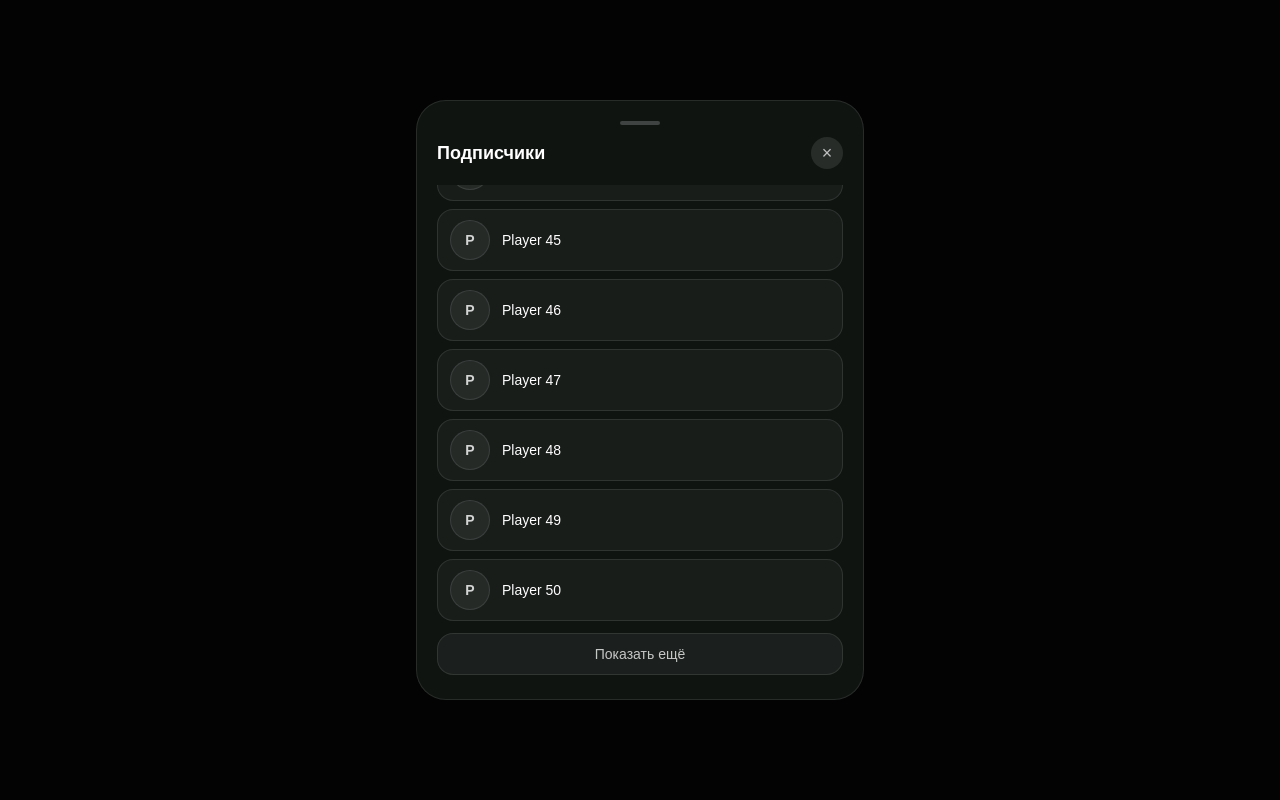
Test: pagination › 1-5. 120 players: 50 -> «Показать ещё» -> offset 50 -> 100 (button stays) -> offset 100 -> 120 (button gone)
This screenshot has width=1280, height=800.
(page scrolled)
Click the button "Показать ещё" at (640,654), box [437, 633, 843, 675]
(page scrolled)
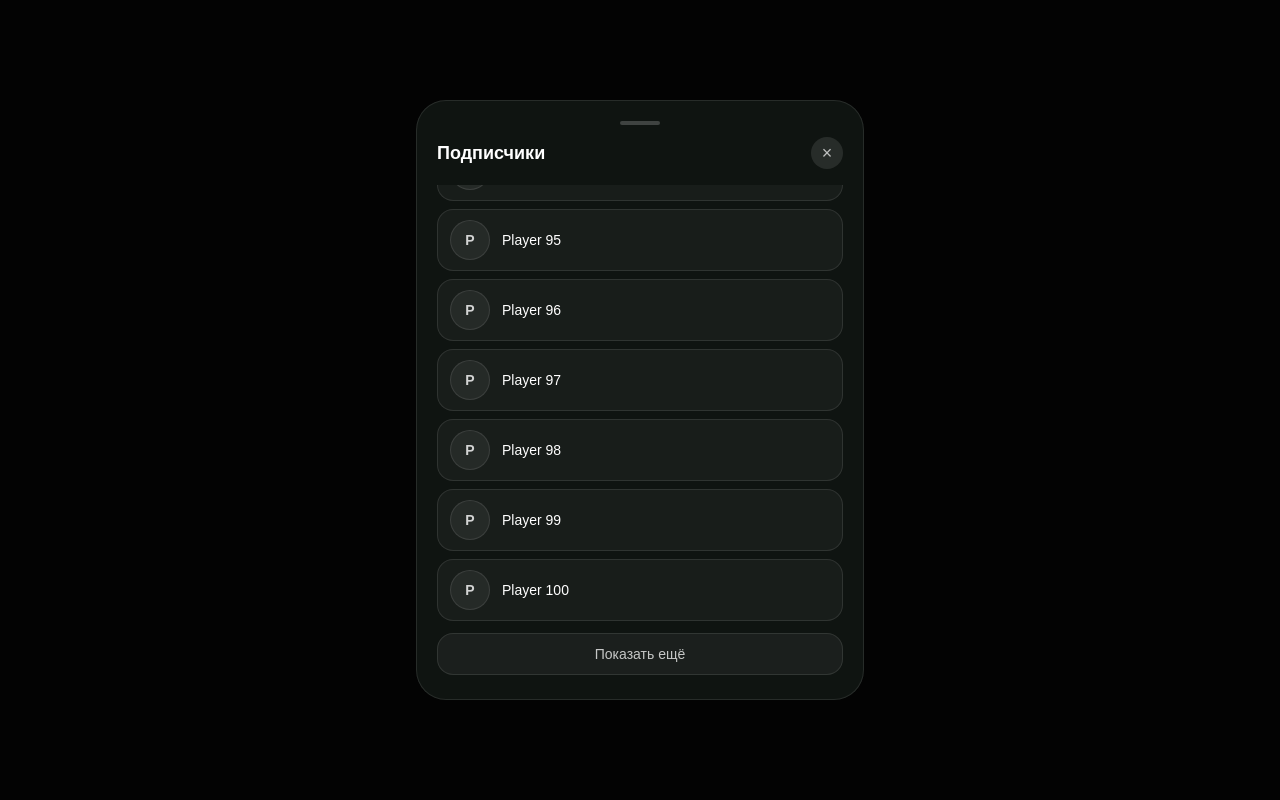
Click the button "Показать ещё" at (640,654), box [437, 633, 843, 675]
(page scrolled)
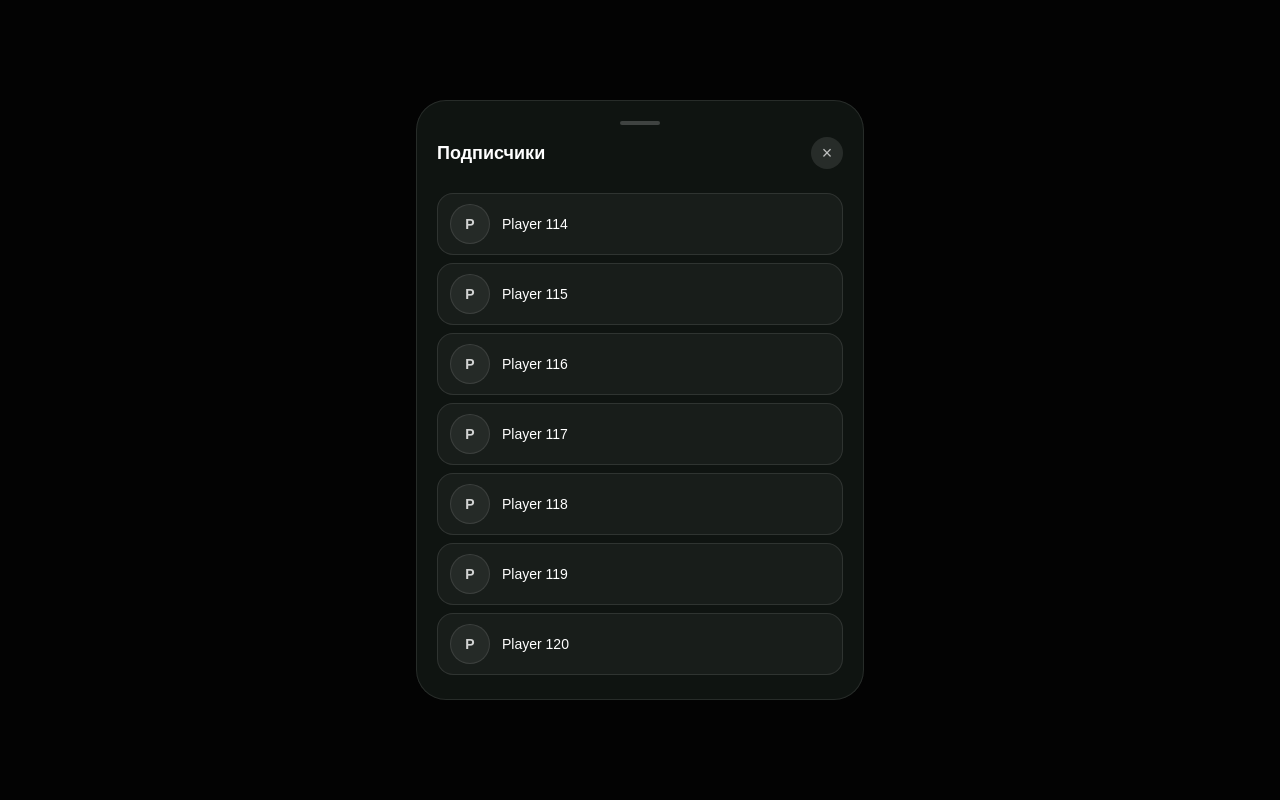
Expected: the list item "P Player 120" is shown, [437, 613, 843, 675]
